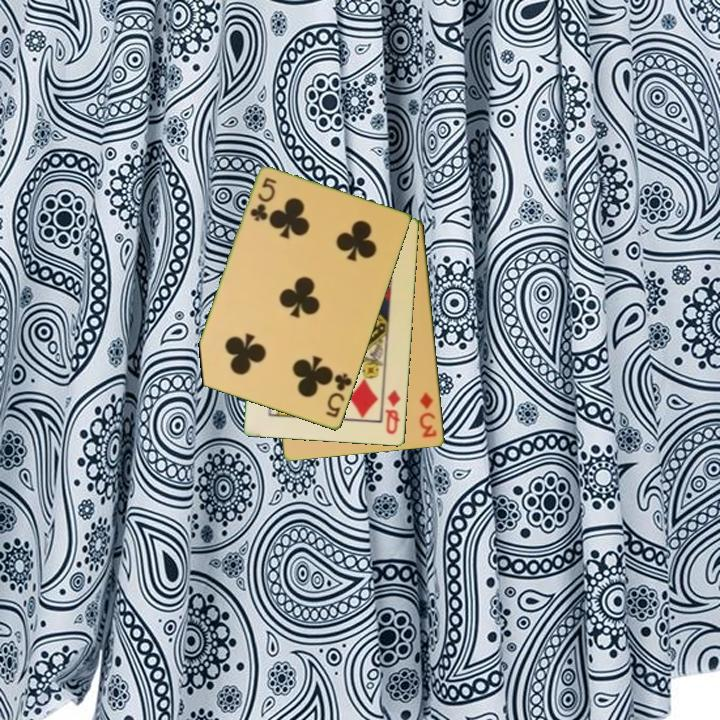3d: (416, 389, 440, 441)
5c: (322, 370, 355, 421), (247, 174, 280, 224)
Qd: (382, 386, 403, 437)
